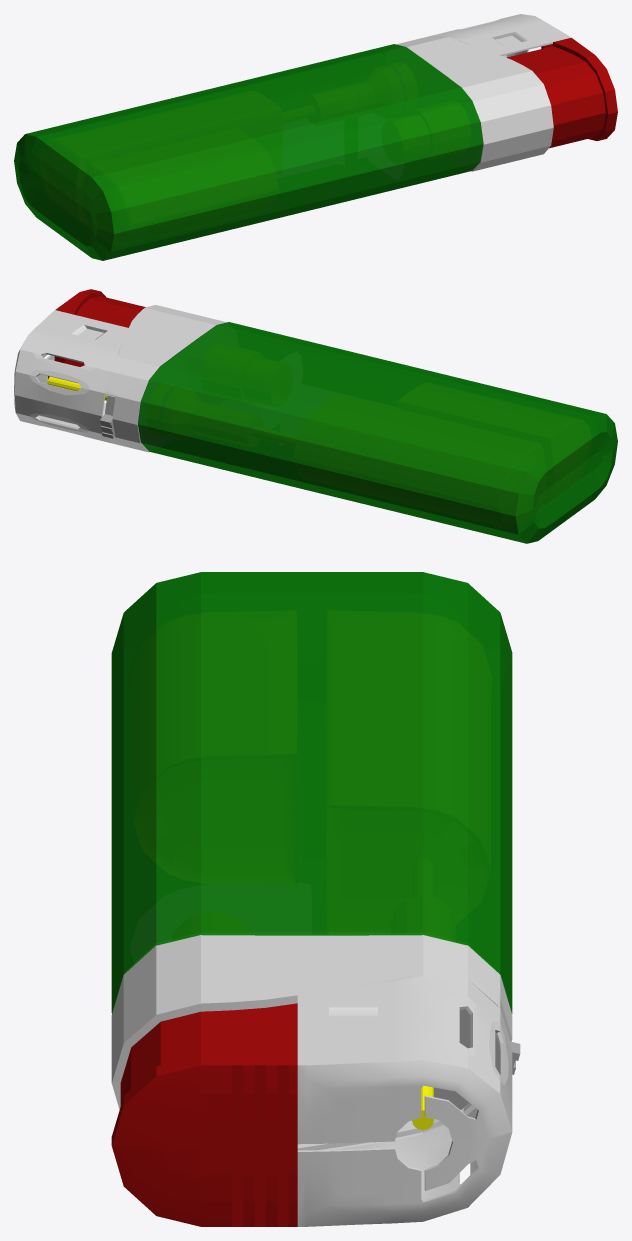
The model's file is korek.fbx.
The picture shows the model from 3 angles, top to bottom: view 1: azimuth 30°, elevation 25°; view 2: azimuth 150°, elevation 25°; view 3: azimuth 270°, elevation 25°; orthographic projection. The views are drawn at different scales.
Parts seen in each view (by area): view 1: lighter:lighter_modelpolySurface37; view 2: lighter:lighter_modelpolySurface37; view 3: lighter:lighter_modelpolySurface37.
Boxes of the visible parts, x1,y1,x2,y2 form: lighter:lighter_modelpolySurface37: (14, 14, 617, 260); lighter:lighter_modelpolySurface37: (14, 289, 617, 543); lighter:lighter_modelpolySurface37: (111, 572, 520, 1226).
Size of the model in its own units: 3.88 by 0.5908 by 1.34.
